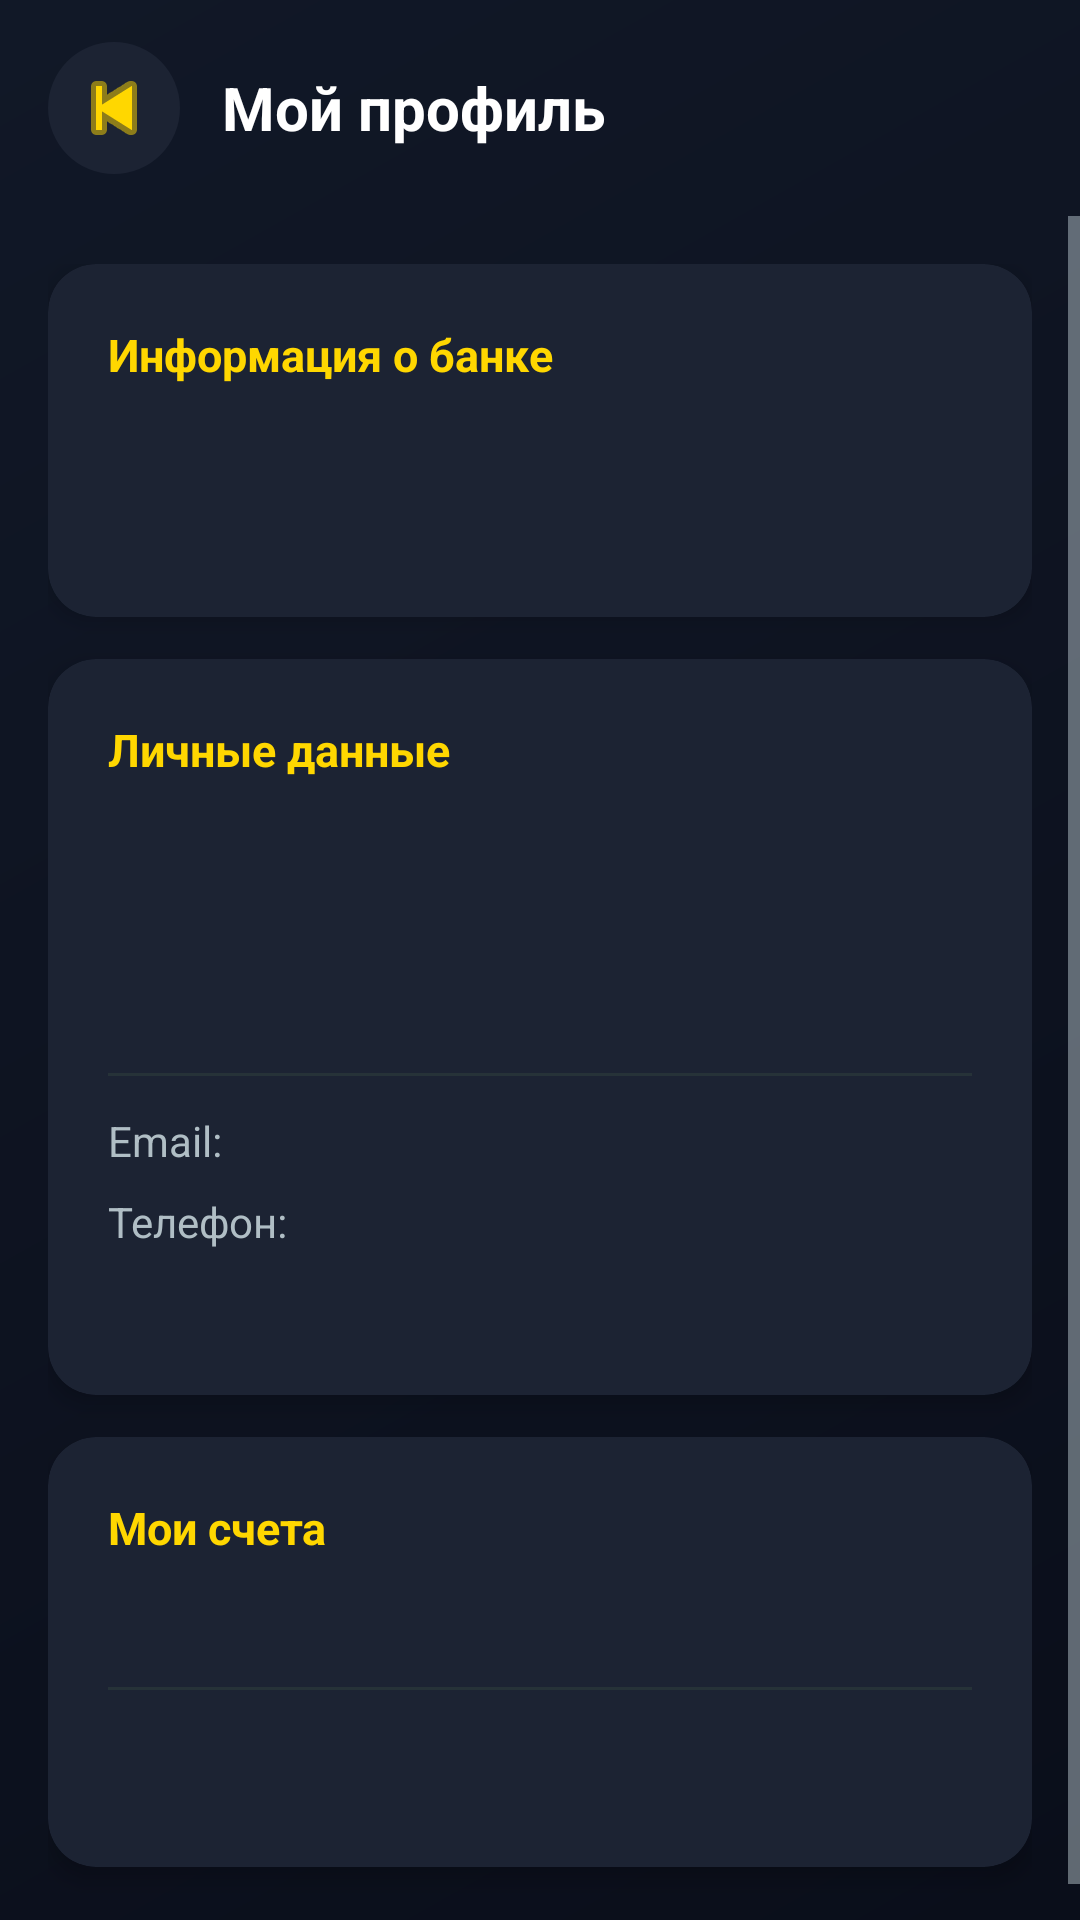

Locate icon controls on the screen. Image size 1080px x 1920px, boxes as (x1, y1, x2, y2).
Назад: (91, 81, 137, 135)
